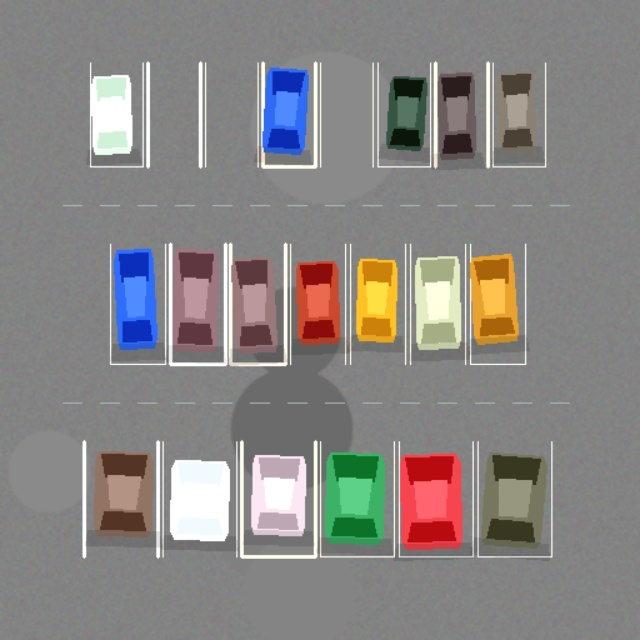space-empty: (147, 63, 200, 166), (320, 63, 373, 166), (205, 63, 257, 166)
space-occupied: (84, 441, 158, 556), (162, 441, 236, 556), (241, 441, 315, 556), (320, 441, 394, 556), (399, 441, 472, 556), (478, 441, 551, 556), (110, 244, 165, 364), (170, 244, 225, 364), (230, 244, 285, 364), (290, 244, 345, 364), (350, 244, 405, 364), (410, 244, 465, 364), (470, 244, 525, 364), (90, 63, 143, 166), (377, 63, 430, 166), (263, 63, 315, 166), (435, 63, 487, 166), (493, 63, 545, 166)
